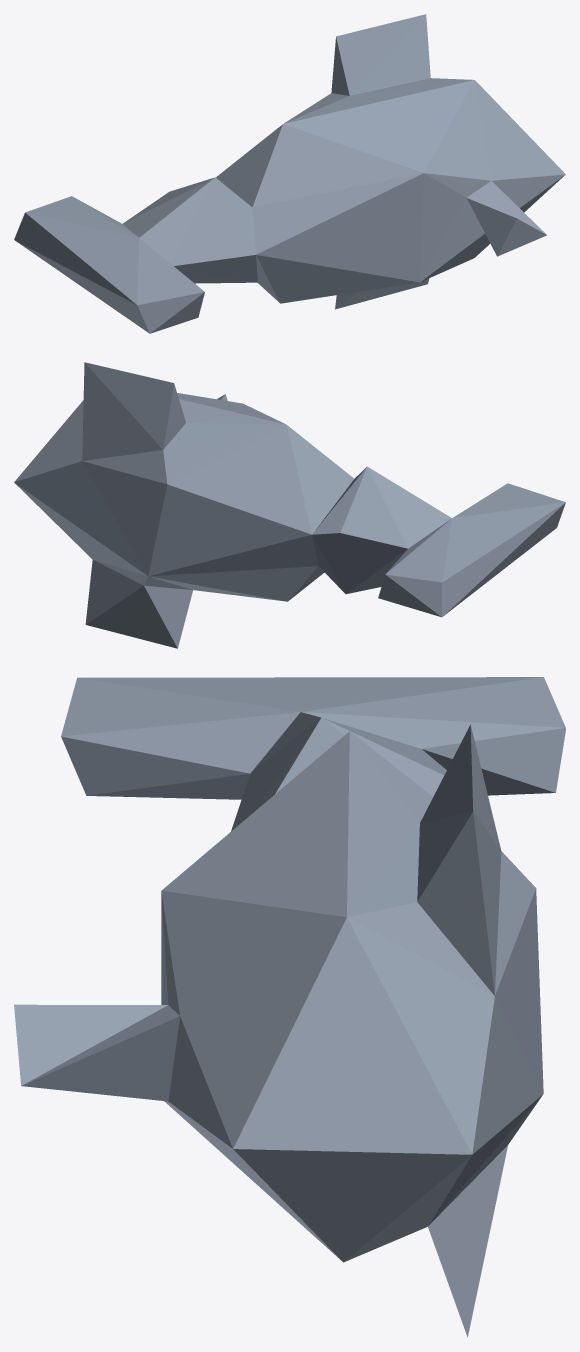
3 renders of one model, top to bottom at view 1: azimuth 30°, elevation 25°; view 2: azimuth 150°, elevation 25°; view 3: azimuth 270°, elevation 25°, orthographic. The views are drawn at different scales.
Parts seen in each view (by area): view 1: part0; view 2: part0; view 3: part0.
Boxes of the visible parts, bbox=[...] form: part0: bbox=[14, 14, 565, 333]; part0: bbox=[14, 362, 565, 648]; part0: bbox=[14, 677, 565, 1337].
Size of the model in its own units: 3.99 by 2.21 by 2.09.
